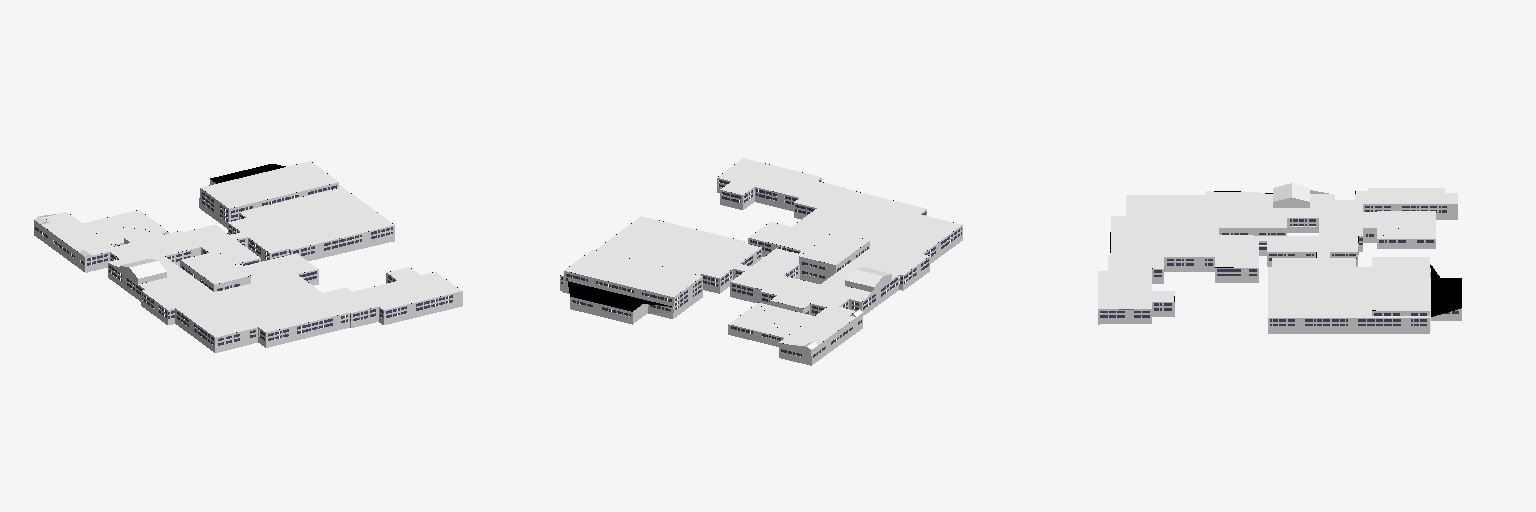
Rendered from Landmarks_model_Shape.obj.
The picture shows the model from 3 angles: view 1: azimuth 30°, elevation 25°; view 2: azimuth 150°, elevation 25°; view 3: azimuth 270°, elevation 25°; orthographic projection.
Parts seen in each view (by area): view 1: CityEngineMaterial_2, CityEngineMaterial_3, CityEngineMaterial_7, CityEngineMaterial, CityEngineMaterial_1; view 2: CityEngineMaterial_2, CityEngineMaterial_3, CityEngineMaterial_7, CityEngineMaterial_1, CityEngineMaterial; view 3: CityEngineMaterial_2, CityEngineMaterial_3, CityEngineMaterial_7, CityEngineMaterial_1, CityEngineMaterial.
Part boxes in pixels (x1,y1,x2,y2): CityEngineMaterial_2: (42, 161, 461, 337); CityEngineMaterial_3: (34, 179, 462, 352); CityEngineMaterial_7: (35, 185, 452, 345); CityEngineMaterial: (34, 216, 166, 278); CityEngineMaterial_1: (46, 162, 457, 332); CityEngineMaterial_2: (561, 158, 961, 345); CityEngineMaterial_3: (560, 178, 962, 365); CityEngineMaterial_7: (566, 180, 961, 357); CityEngineMaterial_1: (560, 163, 953, 343); CityEngineMaterial: (805, 267, 889, 349); CityEngineMaterial_2: (1098, 188, 1457, 331); CityEngineMaterial_3: (1098, 190, 1461, 333); CityEngineMaterial_7: (1100, 206, 1458, 325); CityEngineMaterial_1: (1110, 191, 1461, 316); CityEngineMaterial: (1273, 183, 1457, 201).
Bounding box in the file's own units: 207 × 20.45 × 245.